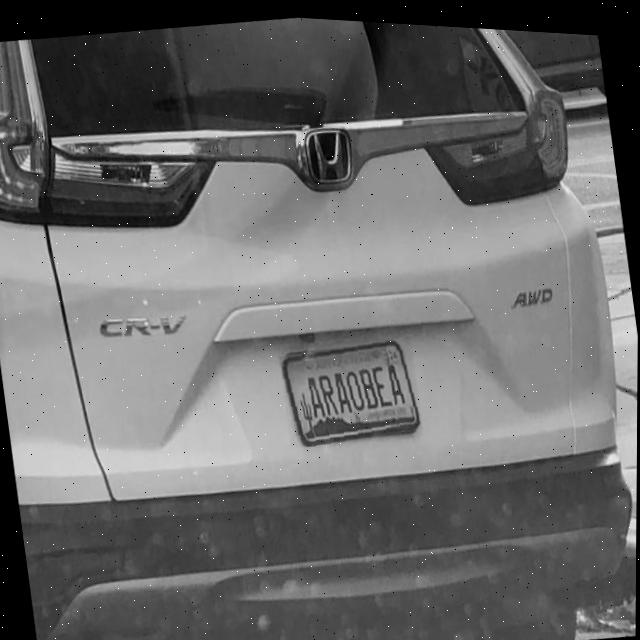LicensePlate: (280, 333, 423, 443)
